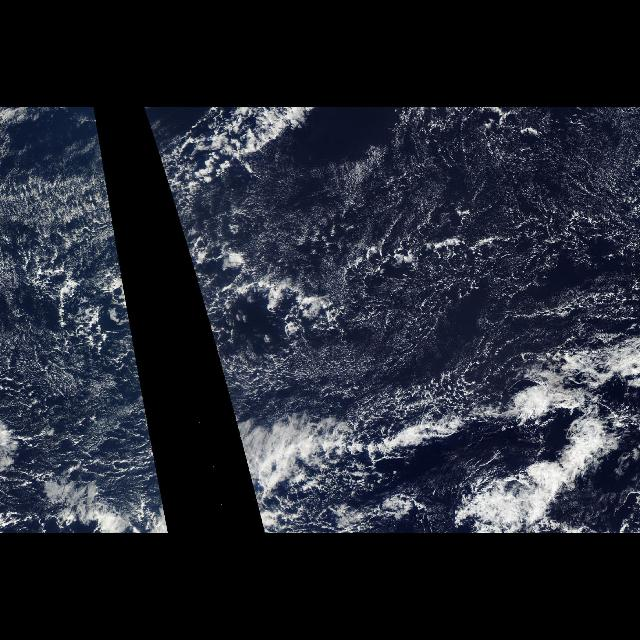Fish: (225, 379, 461, 513), (496, 323, 638, 525)
Gravel: (184, 162, 638, 378), (1, 236, 141, 378)
Sugar: (331, 122, 639, 226)
